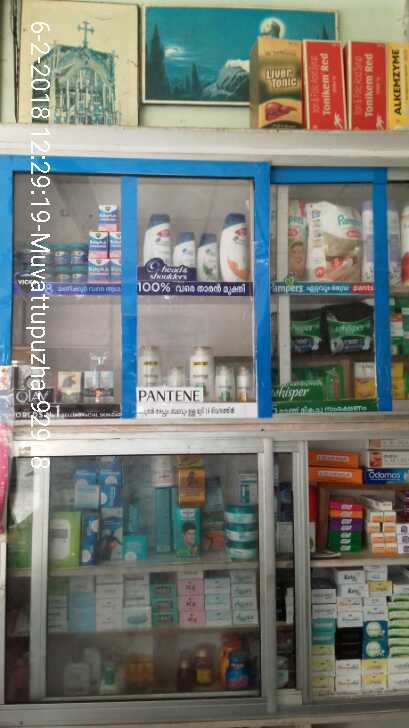vicks: (22, 203, 128, 281)
